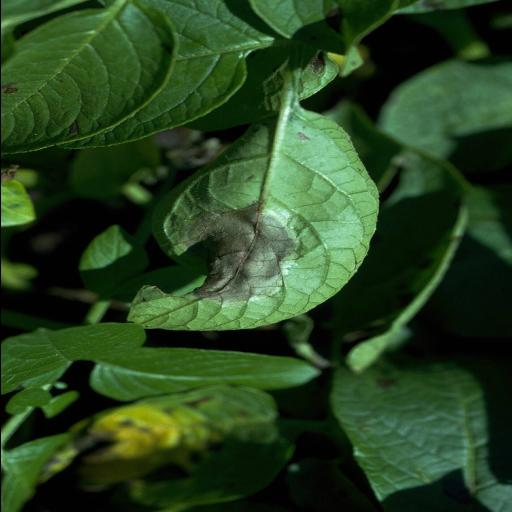disease_tomato: (114, 104, 382, 338)
